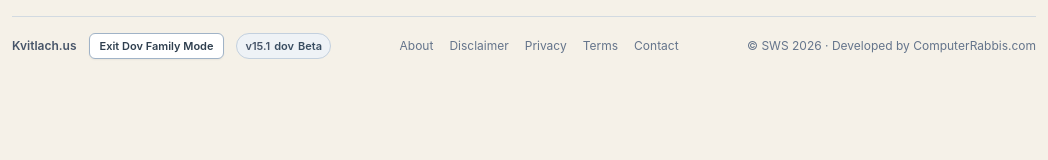
Scenario: leaving family mode › leaves, and says how to come back
The width and height of the screenshot is (1048, 160).
Click the button "Exit Dov Family Mode" at x=156, y=46, box [88,33,224,59]
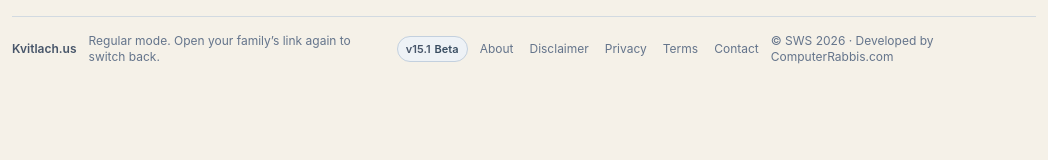
expect the button "Exit" is gone: met
expect the text "Regular mode. Open your family’s link again to switch back." is shown: met, box [88,33,385,65]
